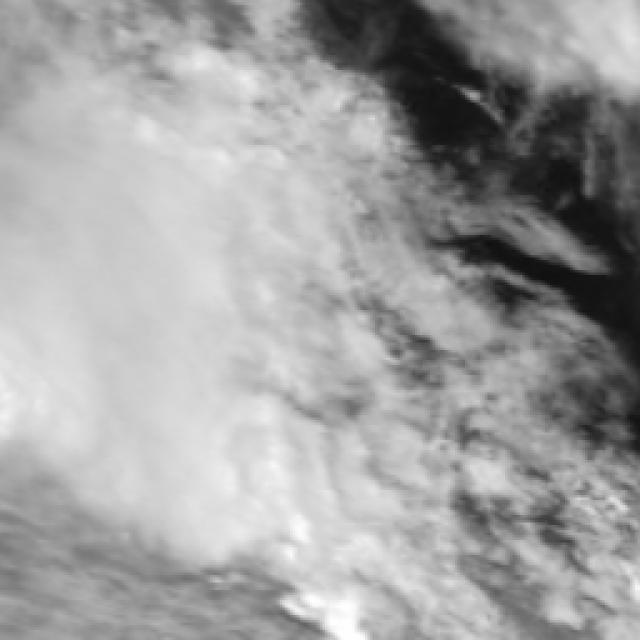CB: (59, 174, 236, 488)
